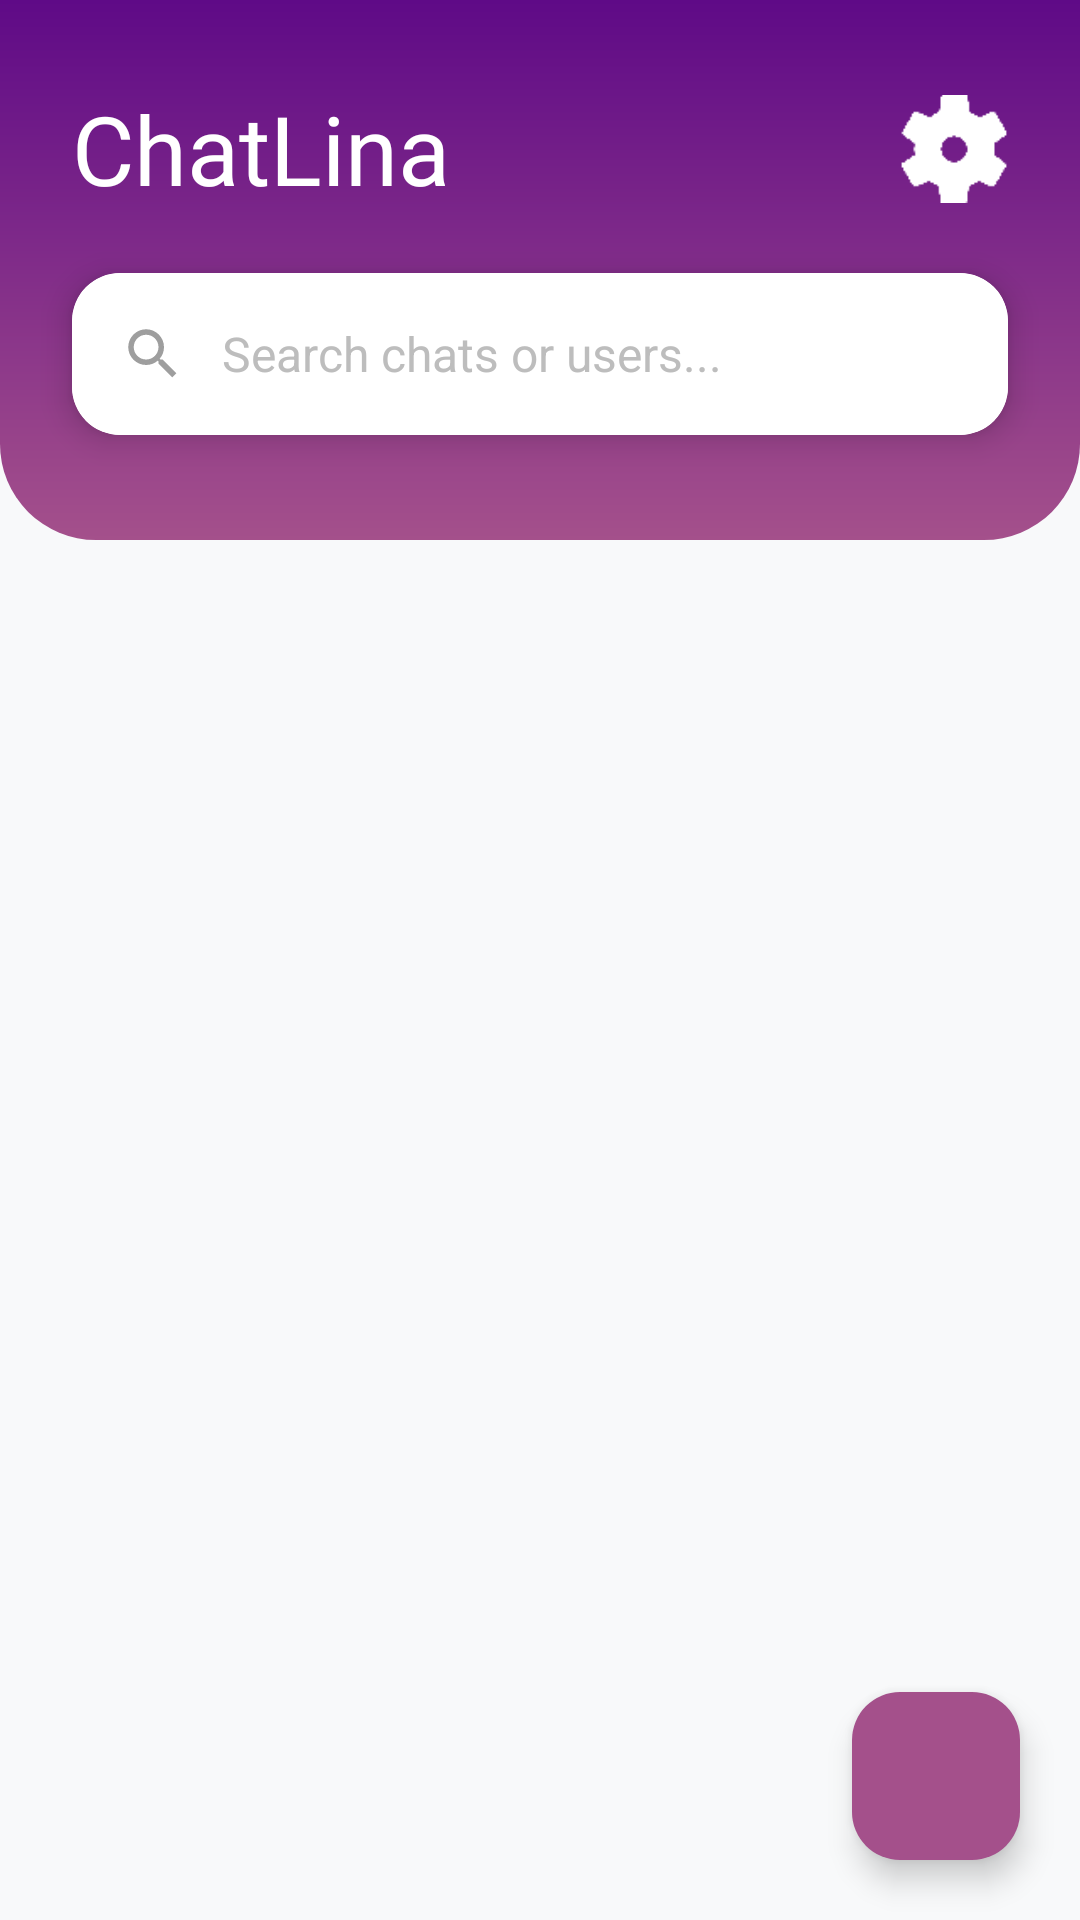

Icon click points for this 1080 x 1920 phone screenshot, format point (x, y):
Settings or Profile: point (954, 149)
